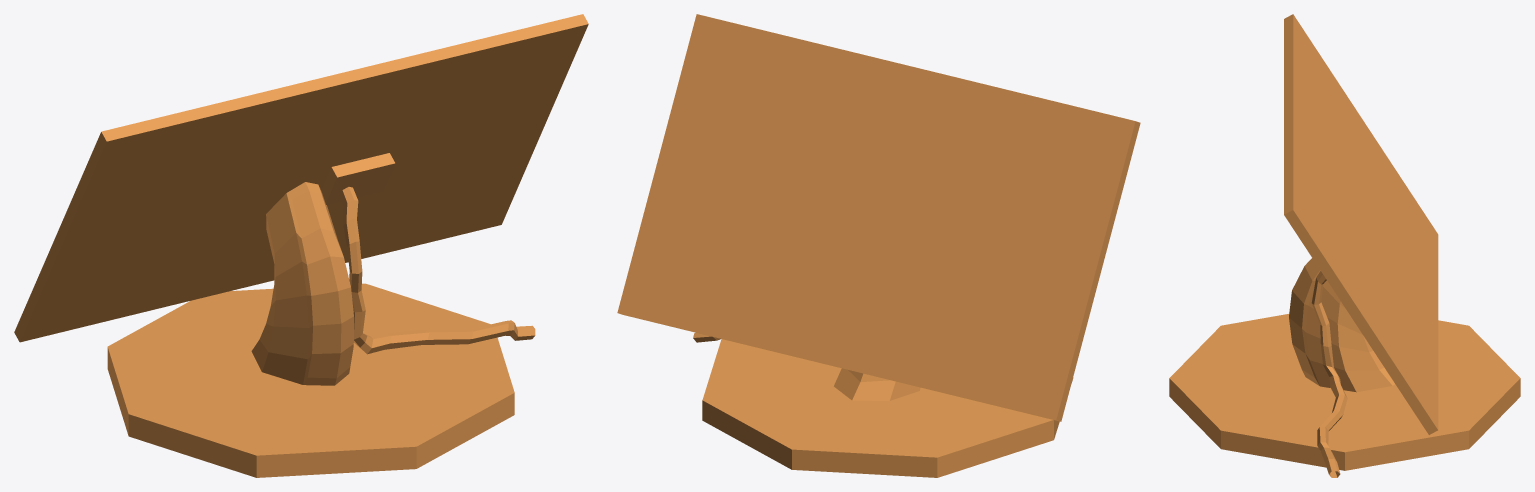
Rendered from Painel Solar.fbx.
The picture shows the model from 3 angles, left to right: view 1: azimuth 30°, elevation 25°; view 2: azimuth 150°, elevation 25°; view 3: azimuth 270°, elevation 25°; orthographic projection. The views are drawn at different scales.
Visible parts, largest first — view 1: Cube.002; view 2: Cube.002; view 3: Cube.002.
Part boxes in pixels (<box>): Cube.002: <box>14,14,588,477</box>; Cube.002: <box>617,14,1140,477</box>; Cube.002: <box>1169,14,1520,477</box>.
Bounding box in the file's own units: 387 × 262 × 293.
